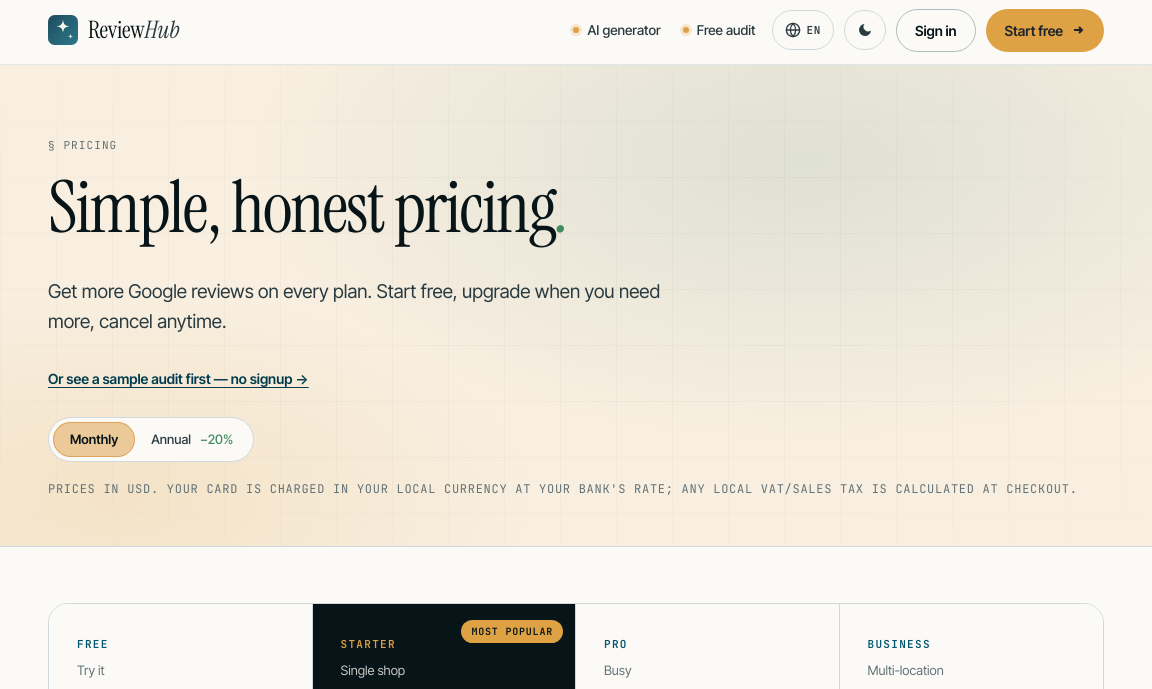
Pricing page › toggles to annual pricing
Click the radio button labelled "Annual −20%": (192, 440) 135,422 -> 249,458
(page scrolled)
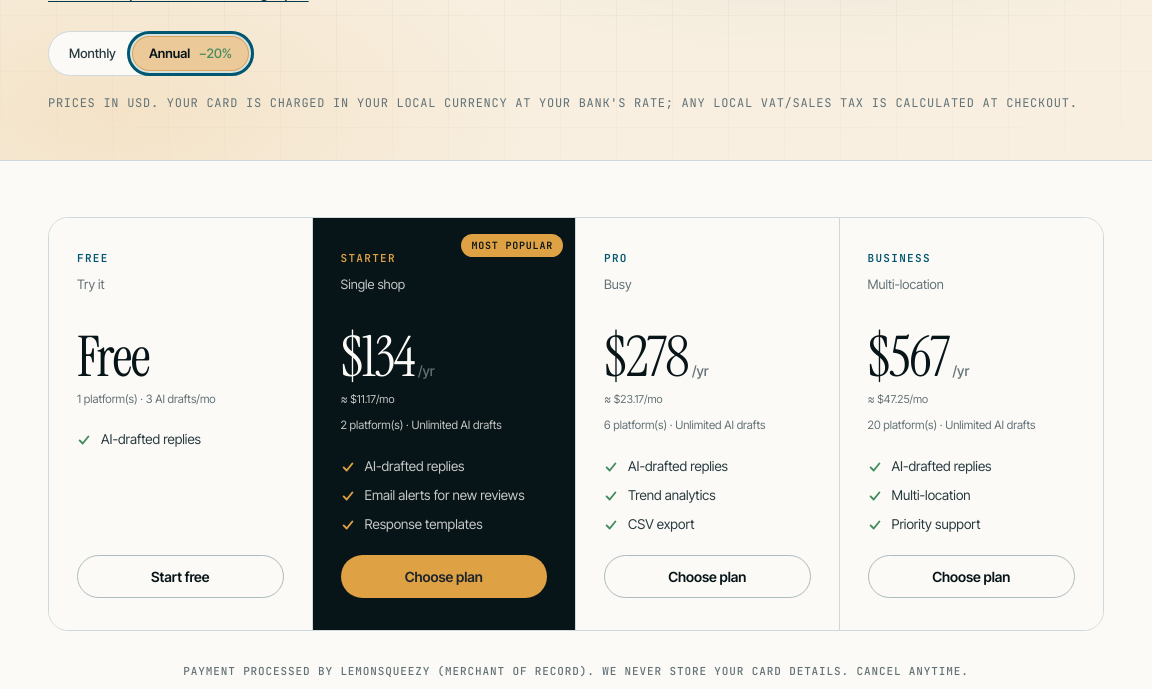
expect the text "$134" is shown: met, box 340,321 -> 414,393
